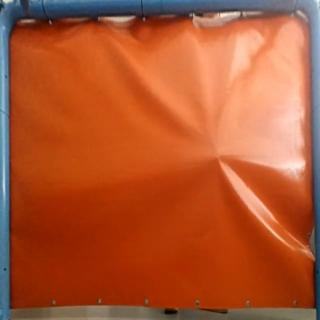Hit-hRxx: (208, 149, 228, 167)
